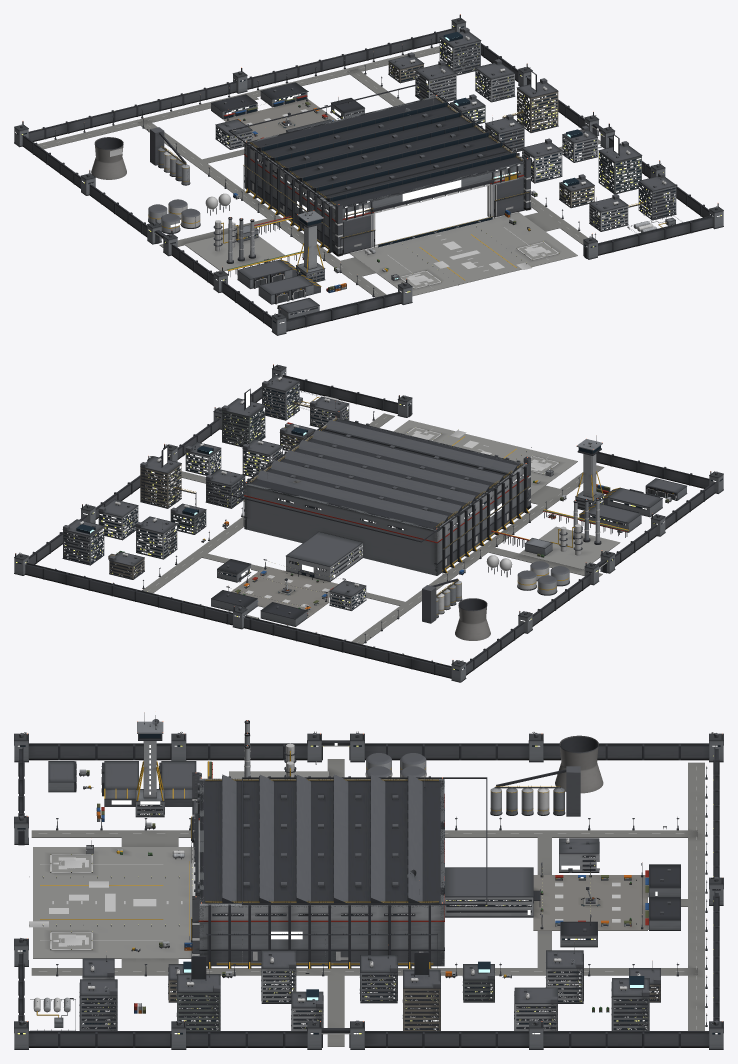
File: Talstadt.32818b5dcd.glb
3 renders of one model, top to bottom at view 1: azimuth 30°, elevation 25°; view 2: azimuth 150°, elevation 25°; view 3: azimuth 270°, elevation 25°, orthographic. The views are drawn at different scales.
Parts seen in each view (by area): view 1: Talstadt; view 2: Talstadt; view 3: Talstadt.
Part boxes in pixels (x1,y1,x2,y2): Talstadt: (14, 14, 723, 335); Talstadt: (14, 364, 723, 682); Talstadt: (14, 712, 723, 1049).
Bounding box in the file's own units: 487 × 79.28 × 497.
